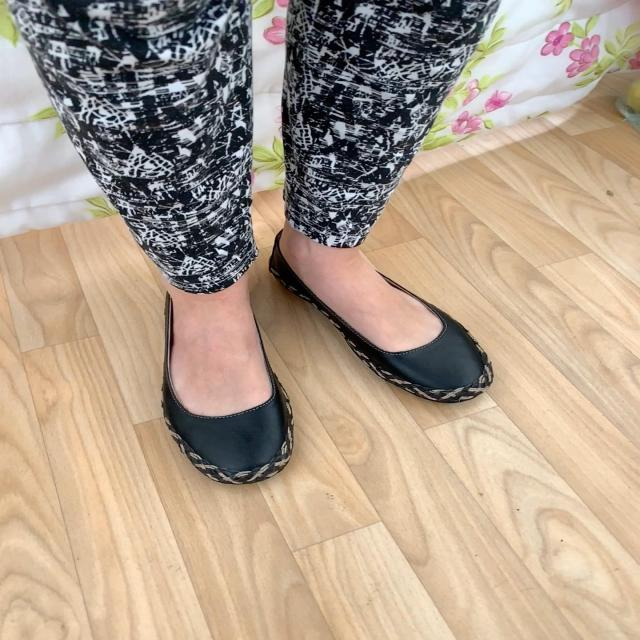shoe: (271, 226, 488, 394), (161, 278, 295, 486)
